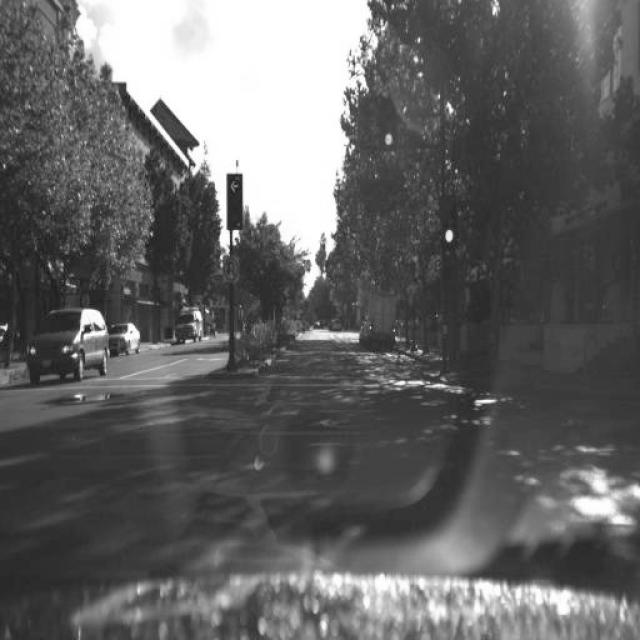semaforo: (438, 196, 458, 248), (226, 174, 243, 229), (380, 100, 398, 150)
